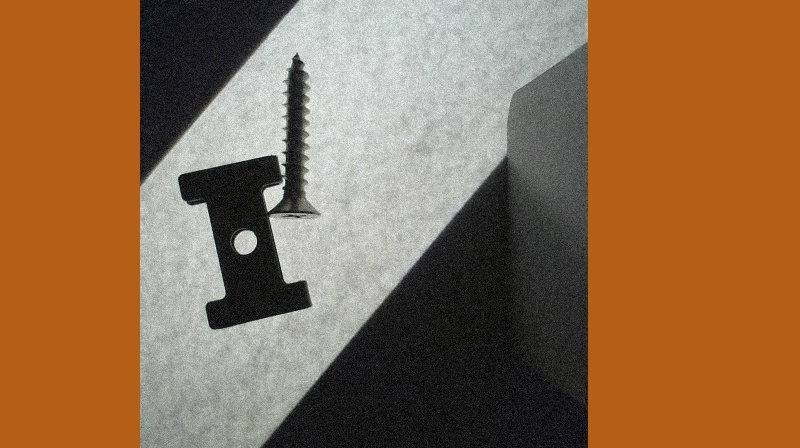O002: (177, 155, 315, 330)
S001: (268, 49, 321, 221)
